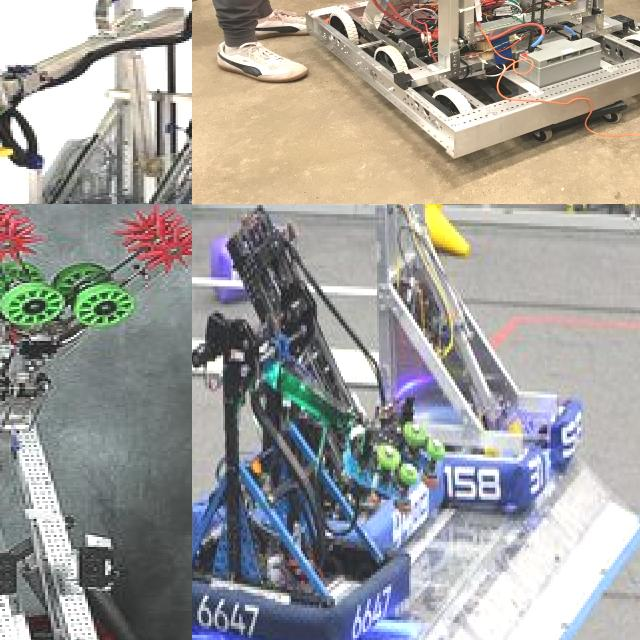FRC-Robots: (192, 204, 462, 579), (192, 283, 429, 640), (348, 204, 617, 518), (0, 204, 192, 640), (333, 0, 640, 162), (0, 0, 192, 204)
